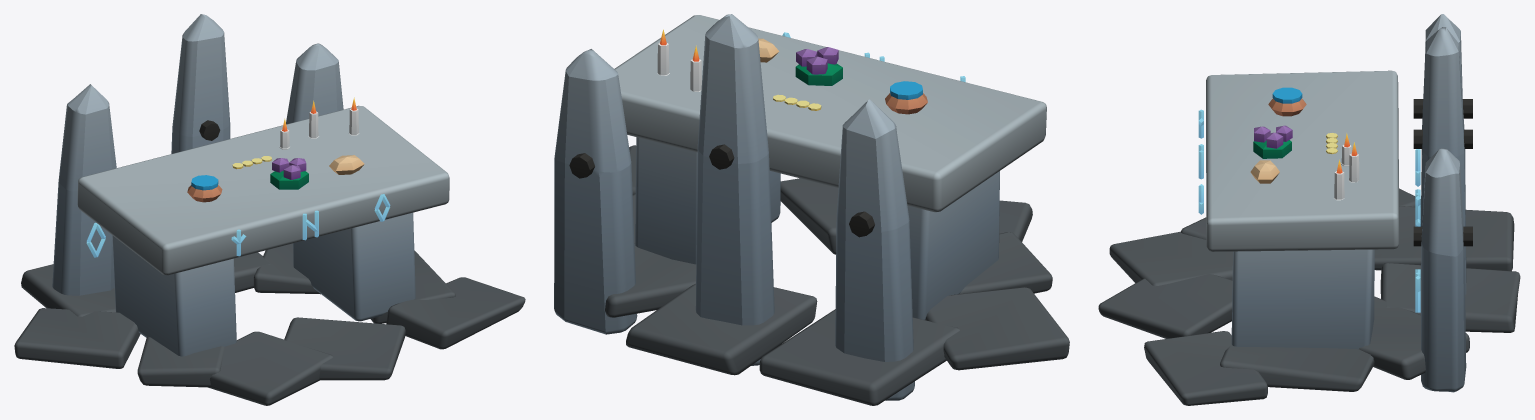
Rendered from singing_altar.glb.
3 views of the same model, side by side, from view 1: azimuth 30°, elevation 25°; view 2: azimuth 150°, elevation 25°; view 3: azimuth 270°, elevation 25° (orthographic). The views are drawn at different scales.
Visible parts, largest first — view 1: singing_altar; view 2: singing_altar; view 3: singing_altar.
Part boxes in pixels (x1=…): singing_altar: x1=14, y1=14, x2=525, y2=405; singing_altar: x1=554, y1=14, x2=1069, y2=405; singing_altar: x1=1098, y1=14, x2=1520, y2=405.
Size of the model in its own units: 3.62 by 2.21 by 2.84.
Materials: 5 (5 with a texture image).
